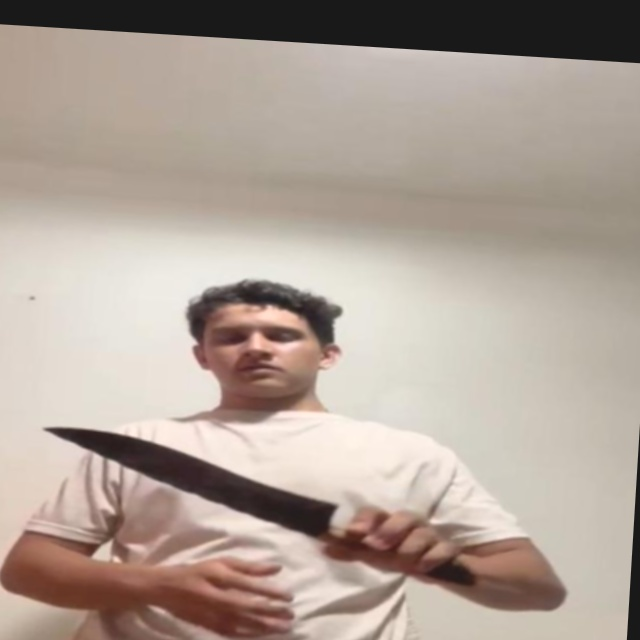Sharp-Object: (37, 426, 345, 538)
